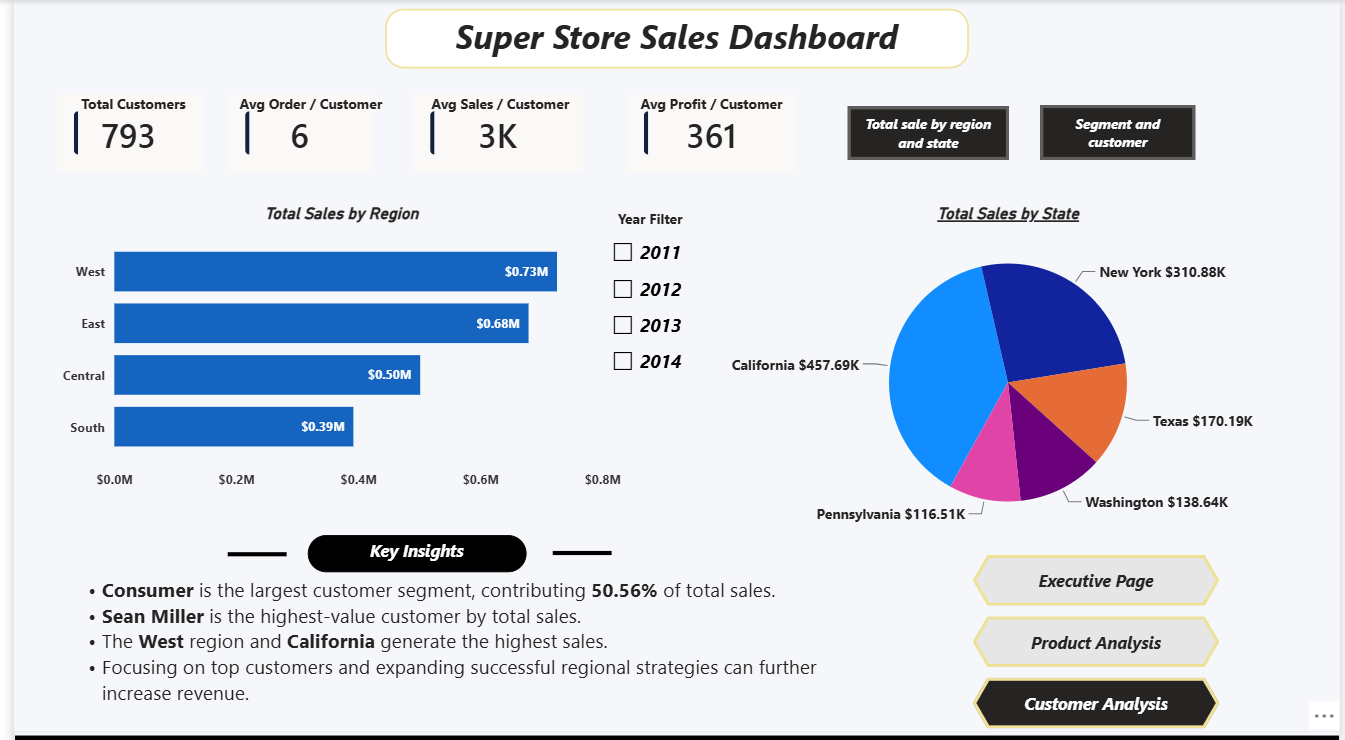

This screenshot's page, from the dashboard's own definition file:
{"tool":"powerbi","page":{"name":"Customer Analysis","canvas":[1280,720],"ordinal":2},"visuals":[{"type":"textbox","box":[358.3,8.4,563.4,57.9],"z":0},{"type":"donutChart","title":"Segment by Orders, Profit & Sales","fields":{"Category":["Orders.Segment"],"Y":["Measures (2).Total Sales"]},"box":[48.5,199.6,543.1,342.1],"z":3000},{"type":"barChart","title":"Top 10 Customer by Total Sales","fields":{"Category":["Orders.Customer Name"],"Y":["Measures (2).Total Sales"]},"box":[618.6,199.6,607.2,342.1],"z":4000},{"type":"textbox","box":[48.3,90.5,125.5,29],"z":7000},{"type":"cardVisual","fields":{"Data":["Measures (2).Total Customer"]},"box":[41,90.5,139.9,76],"z":8000},{"type":"textbox","box":[48.3,85.7,133.9,33.8],"z":9000},{"type":"cardVisual","fields":{"Data":["Measures (2).AVG Order per customer"]},"box":[206.3,90.5,139.9,76],"z":10000},{"type":"textbox","box":[206.3,85.7,160.5,33.8],"z":11000},{"type":"cardVisual","fields":{"Data":["Measures (2).Avg sales per customer"]},"box":[384.9,90.5,164.1,76],"z":12000},{"type":"textbox","box":[389.7,85.7,159.3,31.4],"z":13000},{"type":"cardVisual","fields":{"Data":["Measures (2).Avg profit per customer"]},"box":[591.2,90.5,164.1,76],"z":14000},{"type":"textbox","box":[581.5,85.7,183.4,30.2],"z":15000},{"type":"slicer","fields":{"Values":["Date Table.YearNumber"]},"box":[565.8,220.8,112.2,153.2],"z":16000},{"type":"textbox","box":[539.3,196.6,149.6,31.4],"z":17000},{"type":"actionButton","box":[804.7,102.5,155.6,51.9],"z":18000},{"type":"actionButton","box":[990.5,101.3,149.6,53.1],"z":19000},{"type":"textbox","box":[51.3,551.6,759.7,168.2],"z":20000},{"type":"textbox","box":[283.7,516,211,35.6],"z":21000},{"type":"shape","box":[520.3,503.2,57,61.3],"z":22000},{"type":"shape","box":[206.7,504.6,57,61.3],"z":23000},{"type":"pageNavigator","box":[925.1,535.9,238,168.2],"z":24000},{"type":"shape","box":[0,705.6,1280,14.3],"z":25000}]}

Visuals, with their boxes in screenshot pixels (x1, y1, x2, y2), scaled from the page's 1280x720 canvas onto the 1345x740 screenshot:
textbox: bbox(376, 9, 969, 68)
"Segment by Orders, Profit & Sales" donutChart: bbox(51, 205, 622, 557)
"Top 10 Customer by Total Sales" barChart: bbox(650, 205, 1288, 557)
textbox: bbox(51, 93, 183, 123)
cardVisual - Measures (2).Total Customer: bbox(43, 93, 190, 171)
textbox: bbox(51, 88, 191, 123)
cardVisual - Measures (2).AVG Order per customer: bbox(217, 93, 364, 171)
textbox: bbox(217, 88, 385, 123)
cardVisual - Measures (2).Avg sales per customer: bbox(404, 93, 577, 171)
textbox: bbox(409, 88, 577, 120)
cardVisual - Measures (2).Avg profit per customer: bbox(621, 93, 794, 171)
textbox: bbox(611, 88, 804, 119)
slicer - Date Table.YearNumber: bbox(595, 227, 712, 384)
textbox: bbox(567, 202, 724, 234)
actionButton: bbox(846, 105, 1009, 159)
actionButton: bbox(1041, 104, 1198, 159)
textbox: bbox(54, 567, 852, 739)
textbox: bbox(298, 530, 520, 567)
shape: bbox(547, 517, 607, 580)
shape: bbox(217, 519, 277, 582)
pageNavigator: bbox(972, 551, 1222, 724)
shape: bbox(0, 725, 1344, 739)
